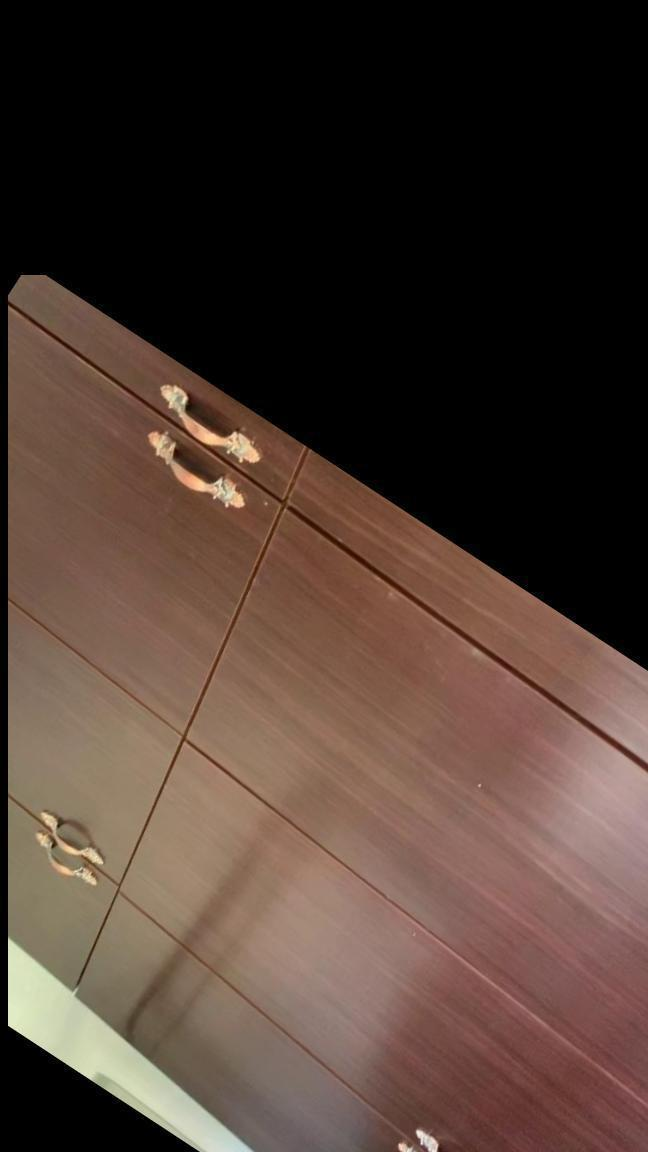Armario: (0, 274, 648, 1152)
